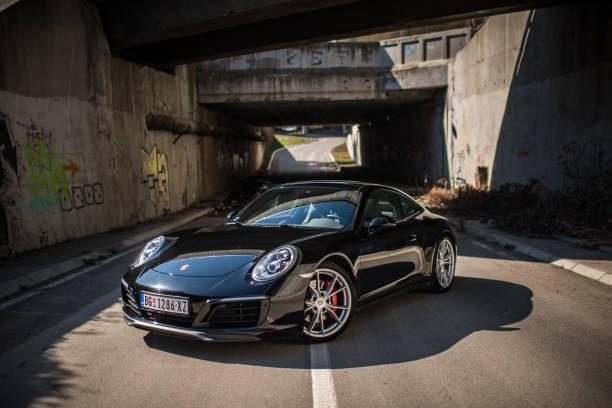porsche: (177, 261, 194, 277)
